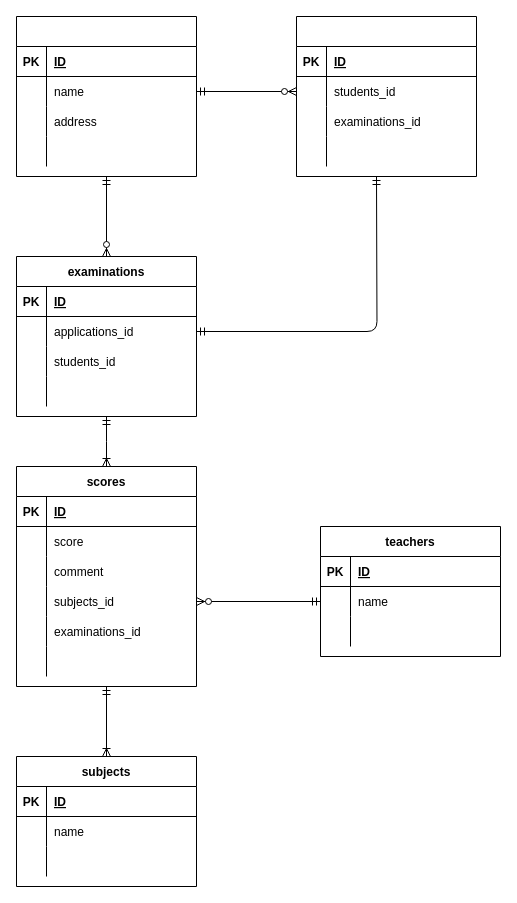
This 517x903 diagram has some shape labels left out. Each missing label, with the box of its shape:
applications: (296, 16, 476, 176)
students: (16, 16, 196, 176)
